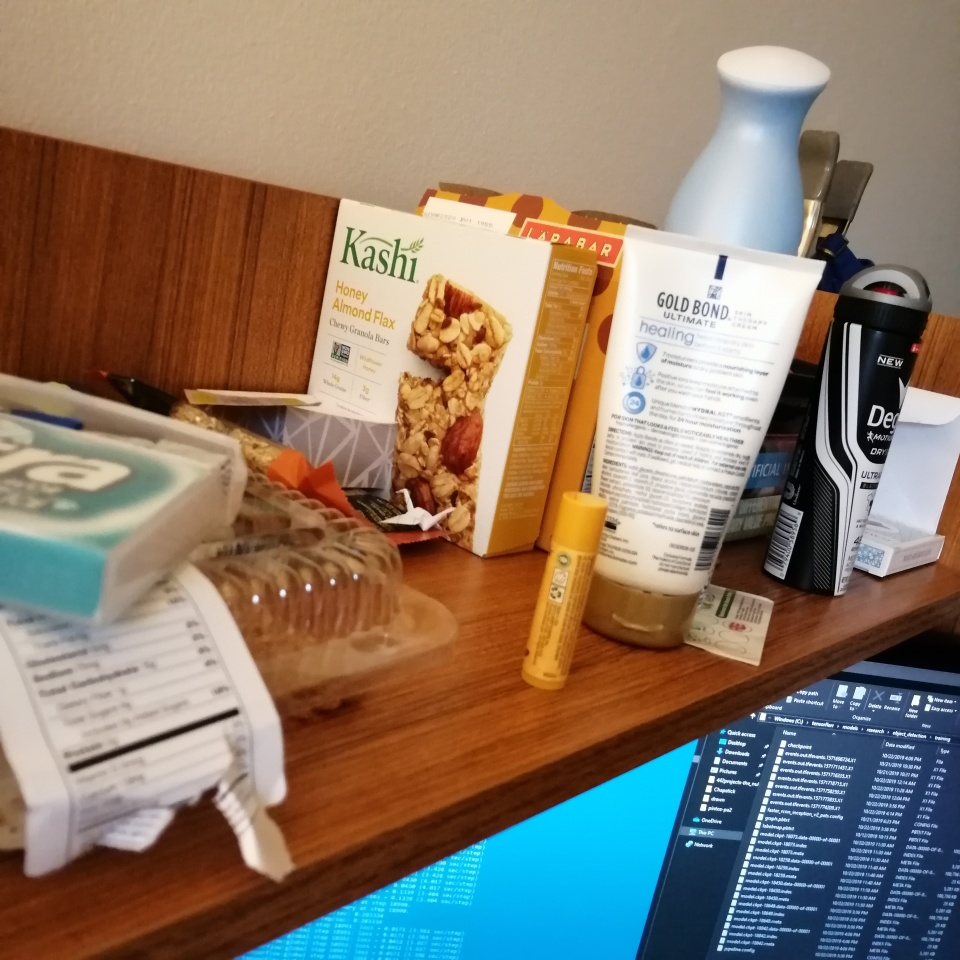chapstick: (521, 491, 608, 690)
